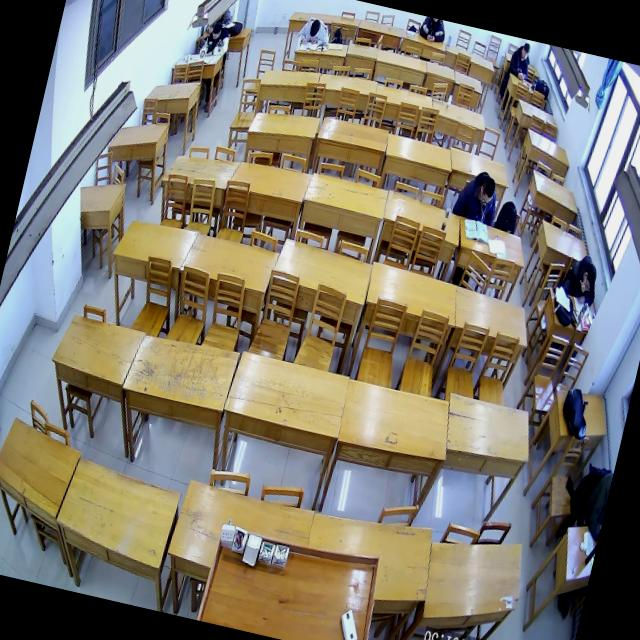bow: (560, 252, 603, 307), (295, 14, 332, 48)
down: (476, 176, 496, 207), (580, 262, 599, 294), (308, 18, 322, 39), (210, 20, 223, 41), (519, 42, 531, 61)
sit: (450, 167, 502, 226), (198, 18, 232, 64), (506, 40, 534, 80)
